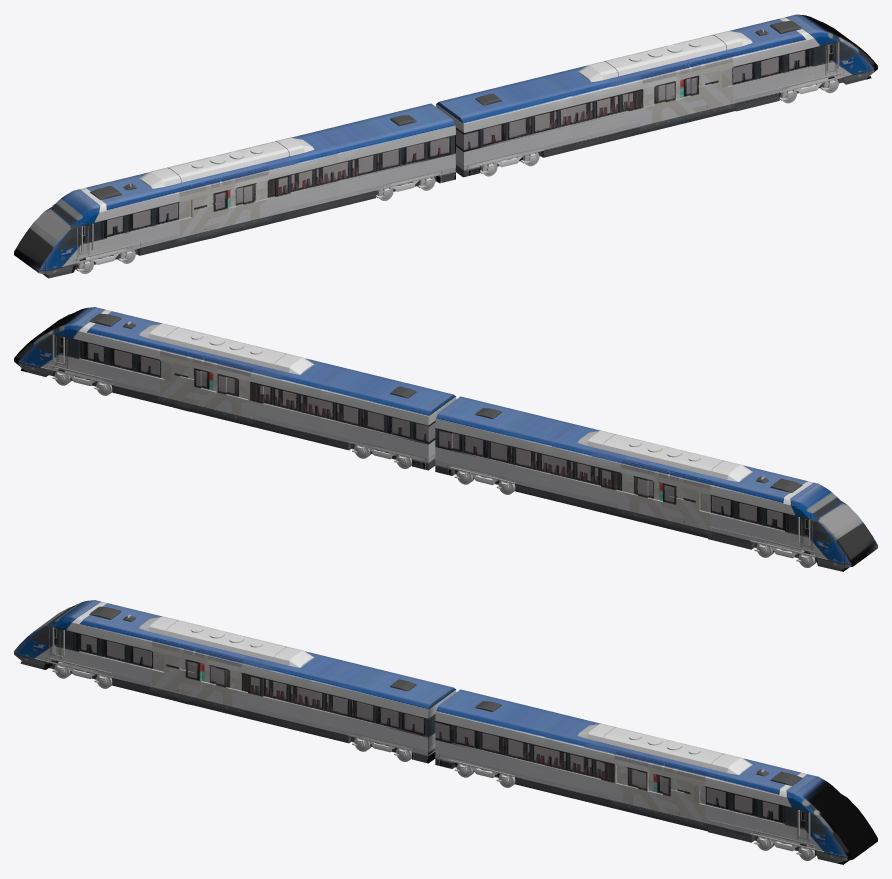
The picture shows the model from 3 angles, top to bottom: view 1: azimuth 30°, elevation 25°; view 2: azimuth 150°, elevation 25°; view 3: azimuth 330°, elevation 25°; orthographic projection.
Parts seen in each view (by area): view 1: pCube65; view 2: pCube65; view 3: pCube65.
Boxes of the visible parts, left/top/right/bottom form: pCube65: left=14, top=14, right=877, bottom=278; pCube65: left=14, top=307, right=877, bottom=571; pCube65: left=14, top=600, right=877, bottom=864.
Size of the model in its own units: 0.4479 by 0.036 by 0.0278.
7 materials, 2 textured.
